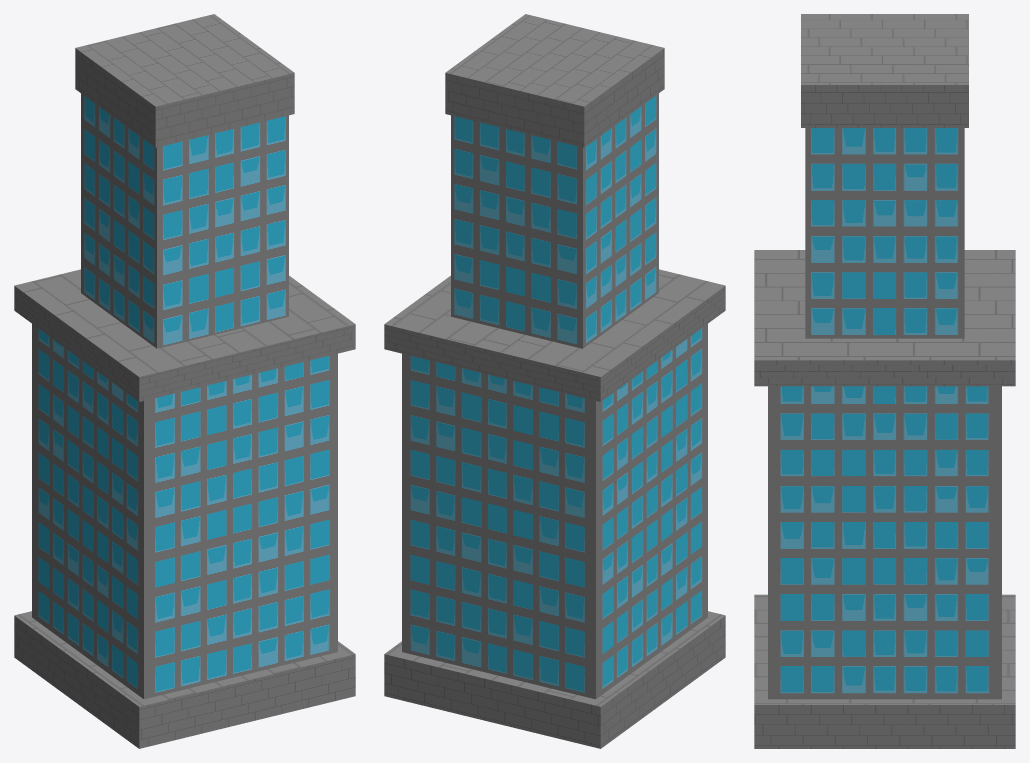
Rendered from SkyScratcher4_destructable.fbx.
3 views of the same model, side by side, from view 1: azimuth 30°, elevation 25°; view 2: azimuth 150°, elevation 25°; view 3: azimuth 270°, elevation 25° (orthographic). The views are drawn at different scales.
Visible parts, largest first — view 1: SkyScratcher4_destructable, SkyScratcher4_b.002, SkyScratcher4_b.003_cell.006, SkyScratcher4_b.004, SkyScratcher4_b.003_cell.003, SkyScratcher4_b.003_cell, SkyScratcher4_b.003_cell.008, SkyScratcher4_b.003_cell.001, SkyScratcher4_b.001; view 2: SkyScratcher4_b.003_cell.003, SkyScratcher4_b.002, SkyScratcher4_destructable, SkyScratcher4_b.003_cell.008, SkyScratcher4_b.001, SkyScratcher4_b.003_cell.006, SkyScratcher4_b.003_cell.005, SkyScratcher4_b.003_cell.001, SkyScratcher4_b.003_cell, SkyScratcher4_b.004, SkyScratcher4_b.003_cell.004; view 3: SkyScratcher4_b.003_cell.008, SkyScratcher4_b.002, SkyScratcher4_destructable, SkyScratcher4_b.003_cell.005, SkyScratcher4_b.003_cell.001, SkyScratcher4_b.001, SkyScratcher4_b.004, SkyScratcher4_b.003_cell.004.
Part boxes in pixels (x1,y1,x2,y2): SkyScratcher4_destructable: [14, 434, 355, 748]; SkyScratcher4_b.002: [75, 14, 294, 277]; SkyScratcher4_b.003_cell.006: [32, 324, 227, 512]; SkyScratcher4_b.004: [61, 292, 355, 401]; SkyScratcher4_b.003_cell.003: [32, 364, 100, 664]; SkyScratcher4_b.003_cell: [81, 158, 212, 348]; SkyScratcher4_b.003_cell.008: [209, 353, 337, 443]; SkyScratcher4_b.003_cell.001: [81, 141, 288, 334]; SkyScratcher4_b.001: [14, 269, 314, 348]; SkyScratcher4_b.003_cell.003: [476, 438, 664, 699]; SkyScratcher4_b.002: [445, 14, 664, 222]; SkyScratcher4_destructable: [384, 410, 725, 748]; SkyScratcher4_b.003_cell.008: [402, 353, 555, 536]; SkyScratcher4_b.001: [384, 275, 653, 401]; SkyScratcher4_b.003_cell.006: [538, 324, 707, 494]; SkyScratcher4_b.003_cell.005: [402, 462, 494, 674]; SkyScratcher4_b.003_cell.001: [451, 169, 608, 301]; SkyScratcher4_b.003_cell: [527, 206, 658, 348]; SkyScratcher4_b.004: [617, 269, 725, 362]; SkyScratcher4_b.003_cell.004: [451, 292, 539, 338]; SkyScratcher4_b.003_cell.008: [768, 386, 1001, 592]; SkyScratcher4_b.002: [801, 14, 968, 245]; SkyScratcher4_destructable: [754, 482, 1015, 748]; SkyScratcher4_b.003_cell.005: [860, 500, 1001, 699]; SkyScratcher4_b.003_cell.001: [805, 184, 964, 338]; SkyScratcher4_b.001: [839, 250, 1015, 386]; SkyScratcher4_b.004: [754, 250, 885, 386]; SkyScratcher4_b.003_cell.004: [864, 313, 964, 338].
Bounding box in the file's own units: 1.3 × 3.53 × 1.3.
